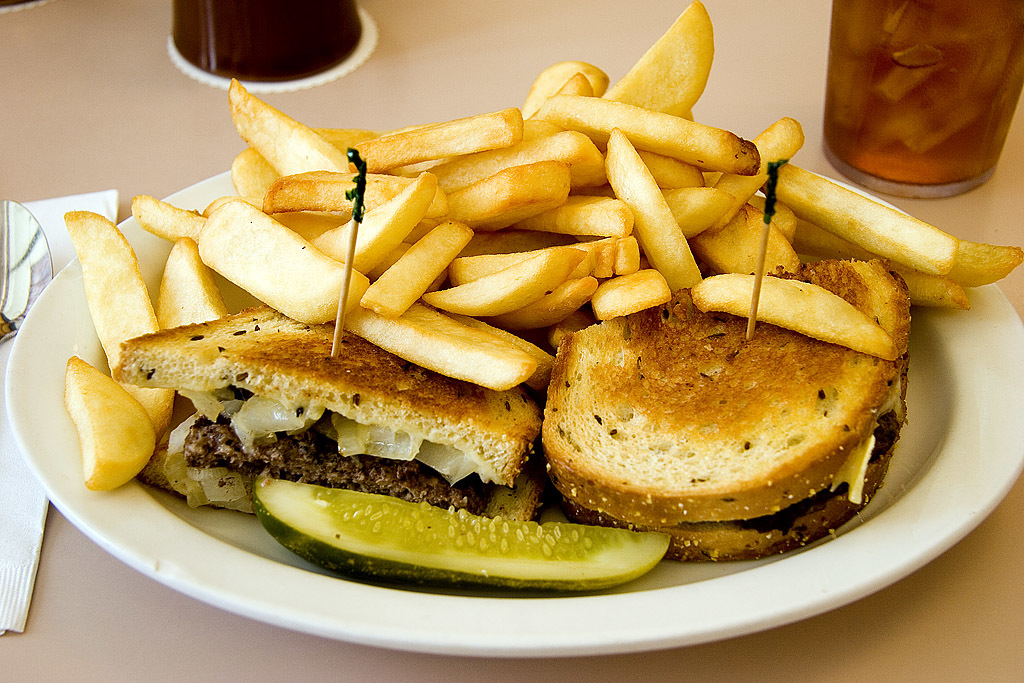French fries: (53, 0, 1015, 498)
